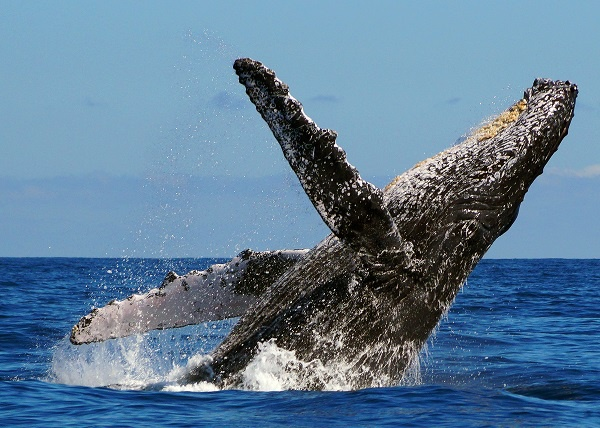humpback: (194, 79, 580, 384)
